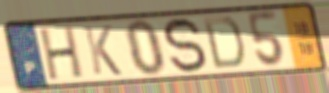0: (121, 19, 169, 78)
5: (244, 9, 287, 71)
D: (200, 15, 246, 71)
H: (38, 24, 85, 83)
K: (81, 24, 125, 78)
S: (161, 15, 210, 76)
